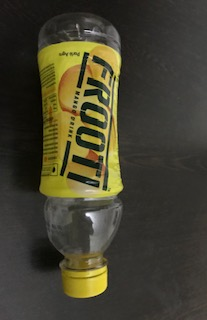bottle: (33, 9, 129, 303)
